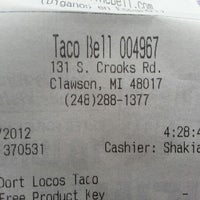Taco Bell: (51, 31, 115, 62)
